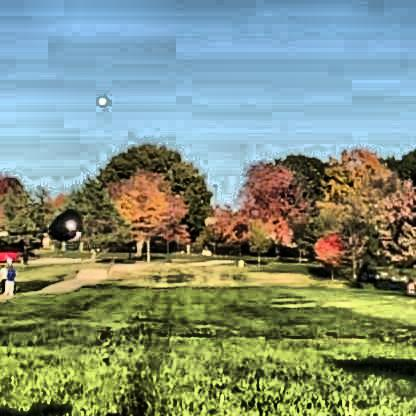golfball: (93, 93, 105, 105)
